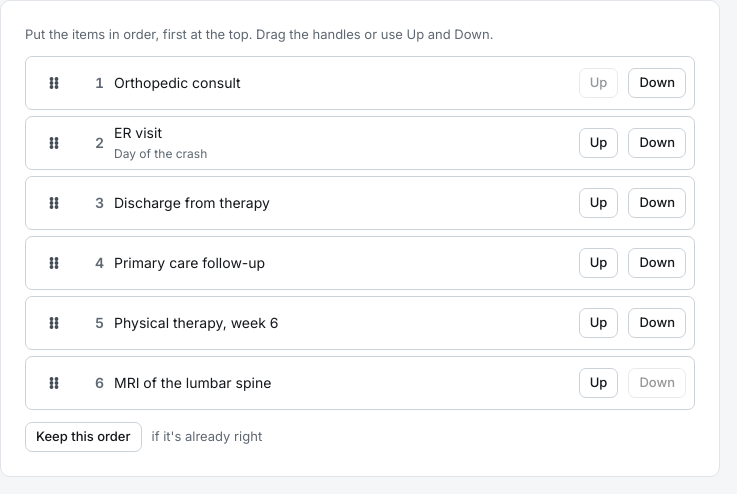
OrderingStep › can keep the shown order as the answer before anything moves
Click the button "Keep this order": (83, 437) [25,422,142,452]
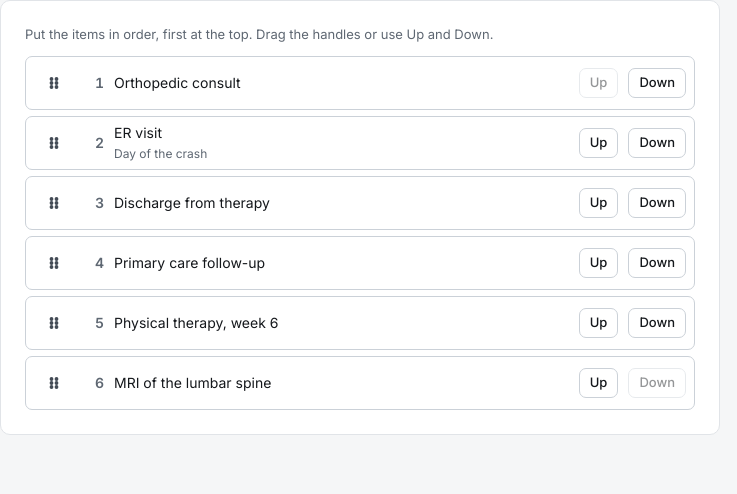
Expected: the button "Keep this order" is gone
